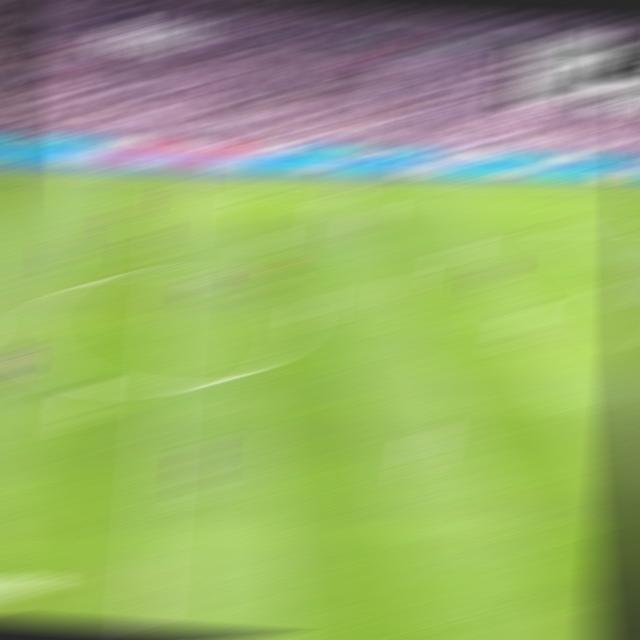bigarea_top_inner: (543, 222, 573, 232)
halfcircle_bottom: (143, 374, 178, 398)
halfcircle_top: (152, 260, 187, 281)
midline_top_intersection: (162, 172, 191, 180)
top_arc_area_intersection: (597, 276, 627, 286)
